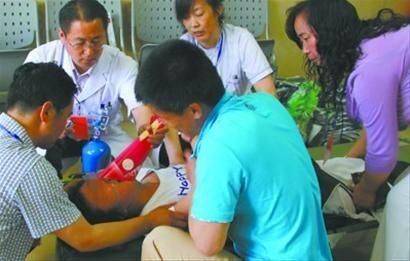Fall-Detected: (57, 124, 218, 246)
